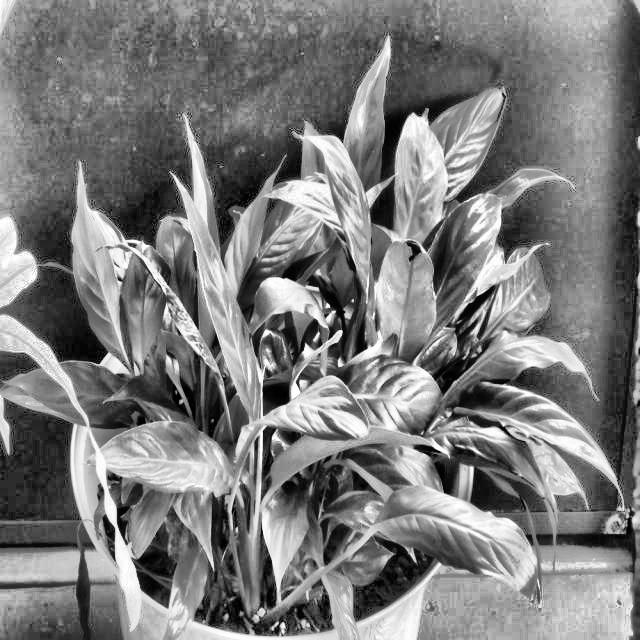plants: (37, 51, 606, 640), (40, 487, 160, 639), (244, 270, 356, 388), (378, 222, 462, 370)
